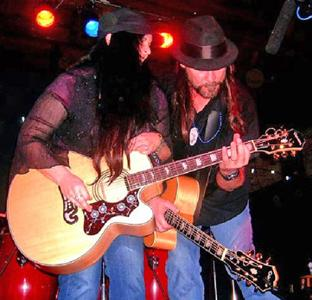person: (16, 7, 170, 299)
